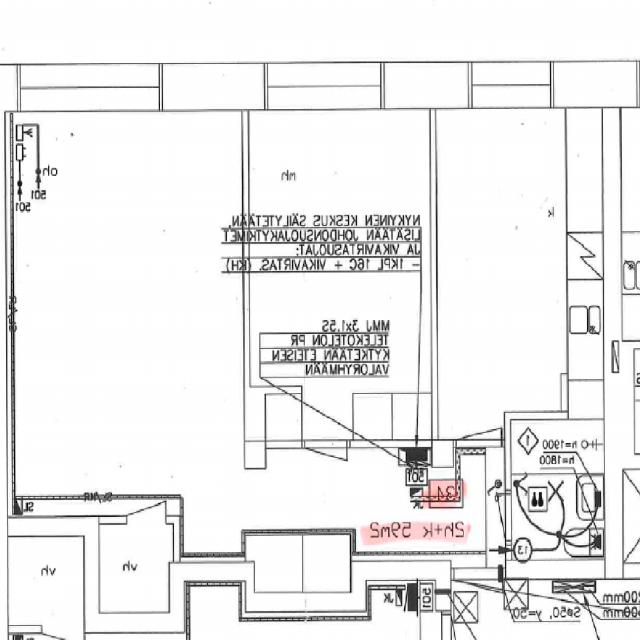door: (454, 561, 502, 640), (458, 381, 503, 446), (305, 439, 347, 499), (126, 466, 166, 525), (469, 493, 511, 539)
